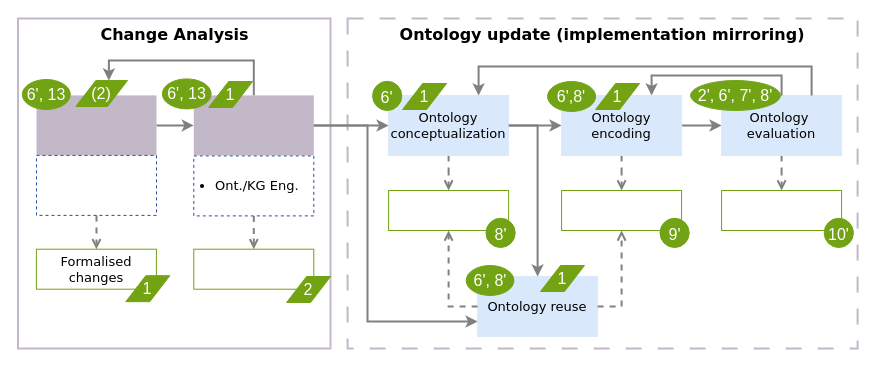
Image size: 876x366. Some labels were removed from this diagram. Here are the shapes that lost their labels. From the top down, the centre of each, then its label:
At (x=96, y=125): "Change conceptualisation".
At (x=253, y=125): "Change evaluation".
At (x=96, y=184): "Ont./KG Eng. Experts".
At (x=448, y=210): "Ontology model".
At (x=621, y=210): "Ontology code".
At (x=781, y=210): "Evaluated ontology".
At (x=253, y=268): "Evaluated change impact".
